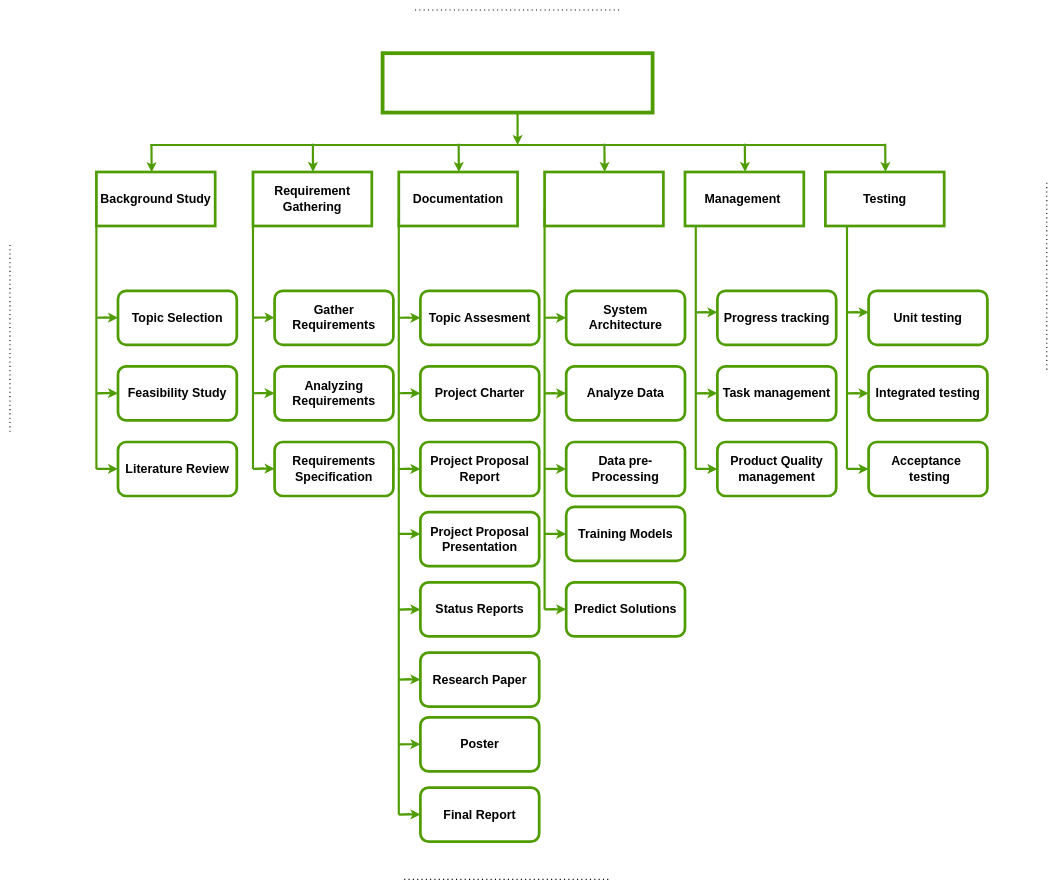
The diagram is 1057 pixels wide and 889 high, and some of its shapes have lost their labels. The centre of each missing label's shape, as x and y in pixels:
Design & Development: the point at 603,198
Growth identification: the point at 517,82
